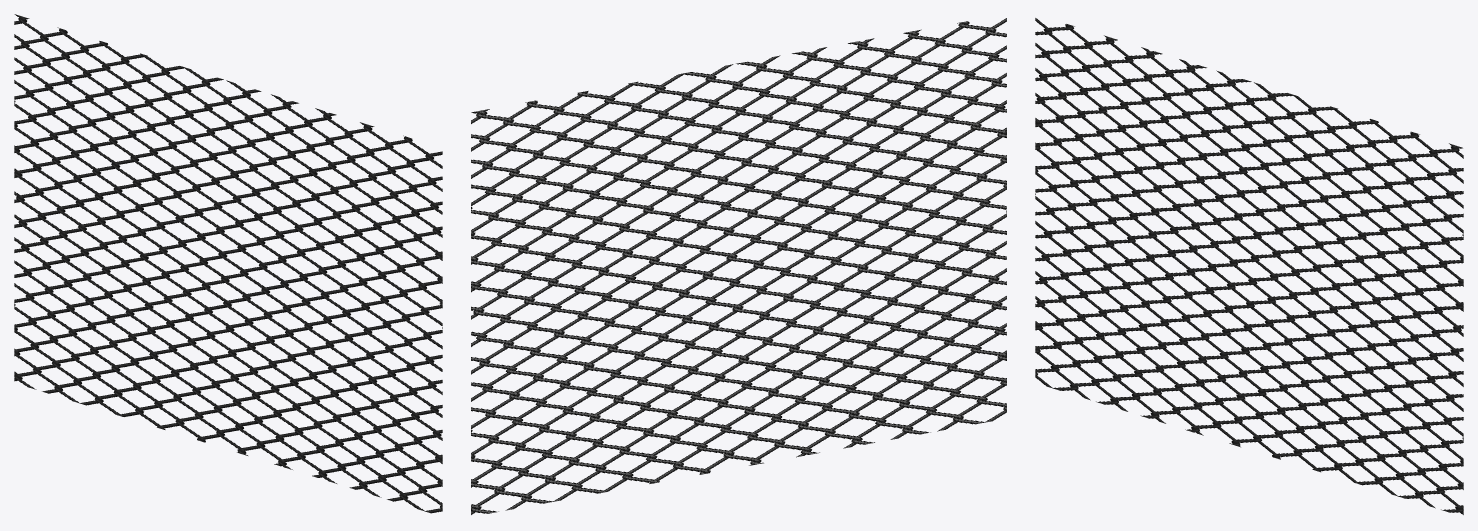
Rendered from dam_chainlink_fence_secondary_3.glb.
3 views of the same model, side by side, from view 1: azimuth 90°, elevation 25°; view 2: azimuth 150°, elevation 25°; view 3: azimuth 270°, elevation 25° (orthographic). The views are drawn at different scales.
Parts seen in each view (by area): view 1: Object; view 2: Object; view 3: Object.
Part boxes in pixels (x1,y1,x2,y2): Object: [14, 14, 442, 513]; Object: [471, 18, 1006, 514]; Object: [1035, 18, 1463, 514].
Bounding box in the file's own units: 2.65 × 3.4 × 3.57.
1 material, 1 textured.
